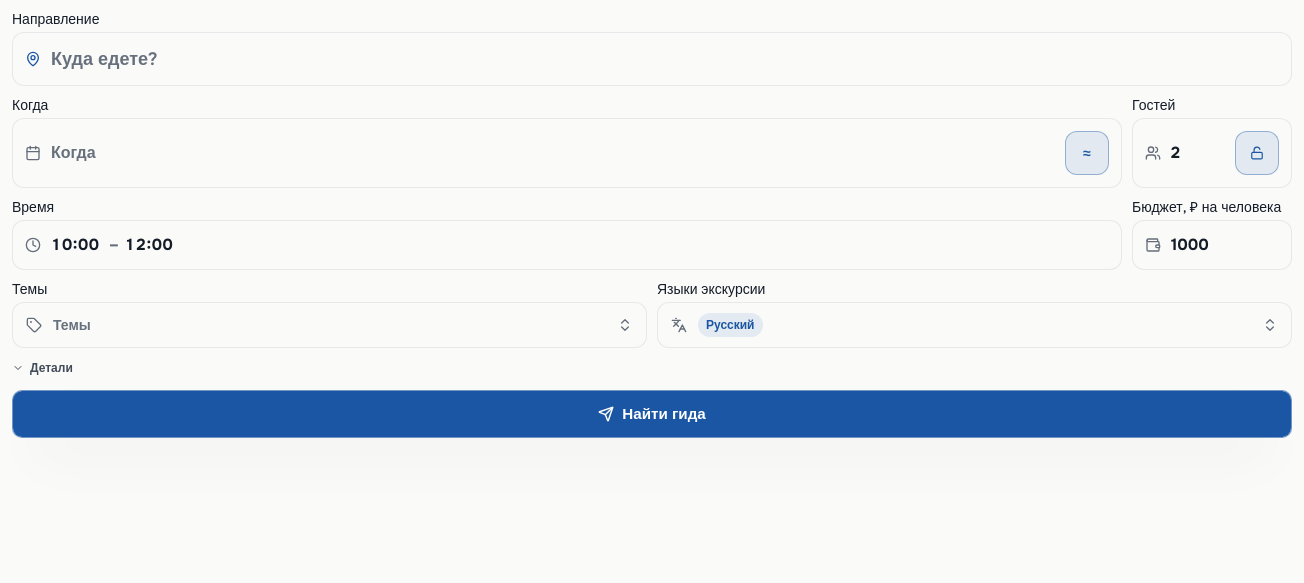
Test: HomepageRequestFormClassic labelled layout › renders the visibly labelled brief fields with the mode toggle, themes & languages selects
Check: the dropdown labelled "Направление" is shown, box [51,45,1279,73]
Check: the button labelled "Когда" is shown, box [51,143,1055,163]
Click the button "Детали".
click(42, 368)  # box [12,360,73,376]
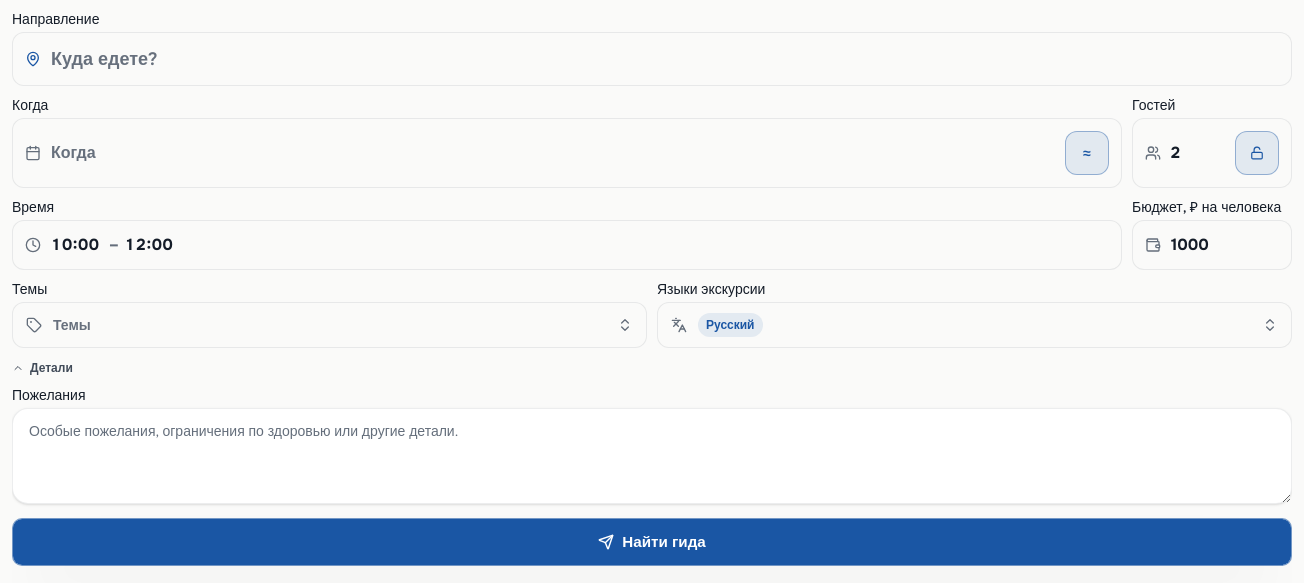
Check: the text box labelled "Пожелания" is shown, box [12,408,1292,504]
